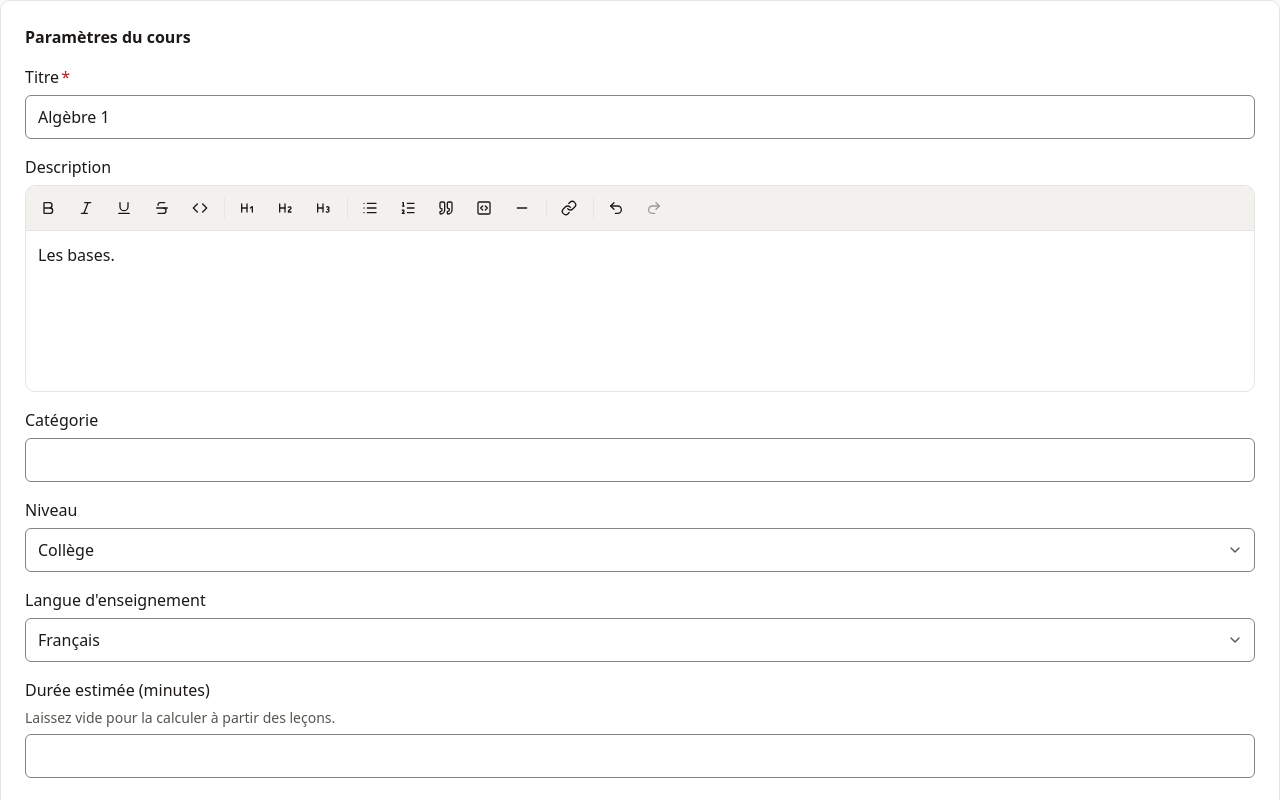
CourseSettingsForm › « Recharger » reloads the course and drops the local edits
This screenshot has width=1280, height=800.
Replace the text in the field labelled "Titre" with "Mon titre". click: (640, 117)
box: [25,95,1255,139]
(page scrolled)
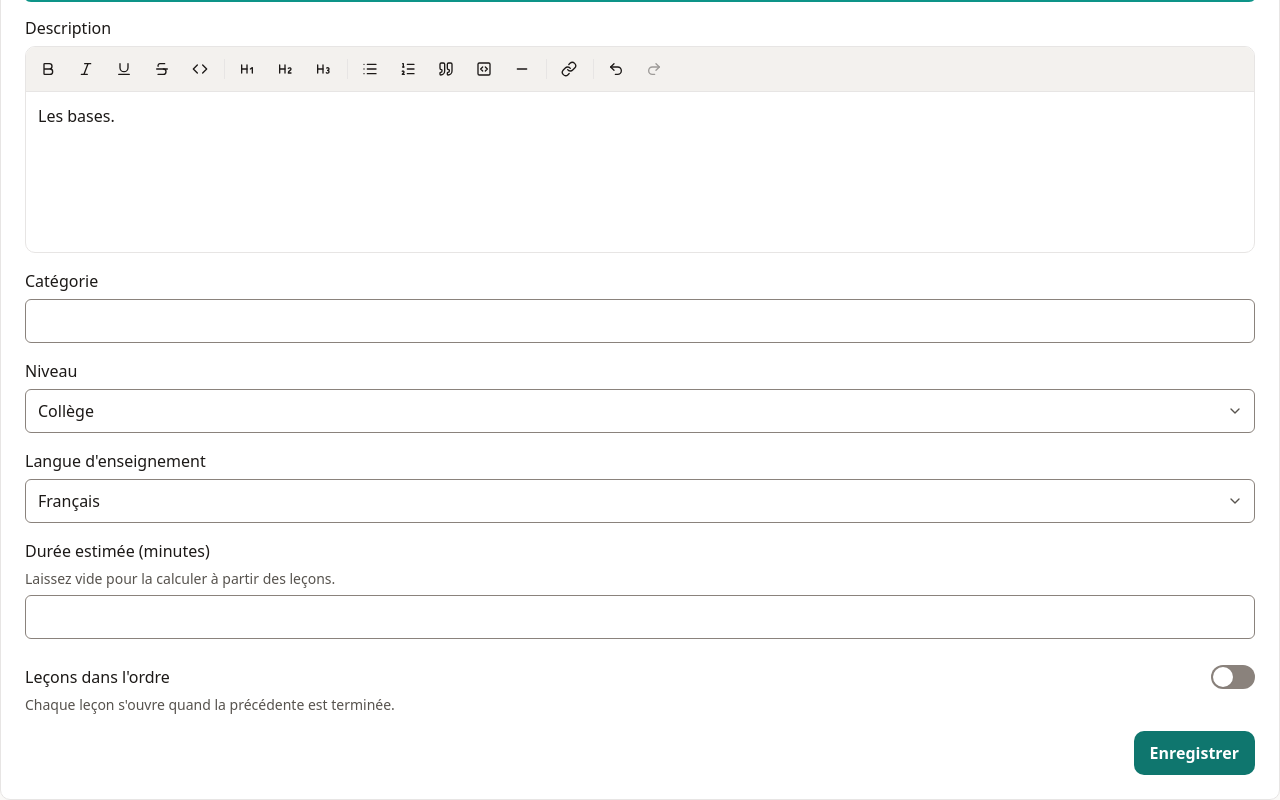
Click the button "Enregistrer". click: click(1194, 753)
box: [1134,731,1255,775]
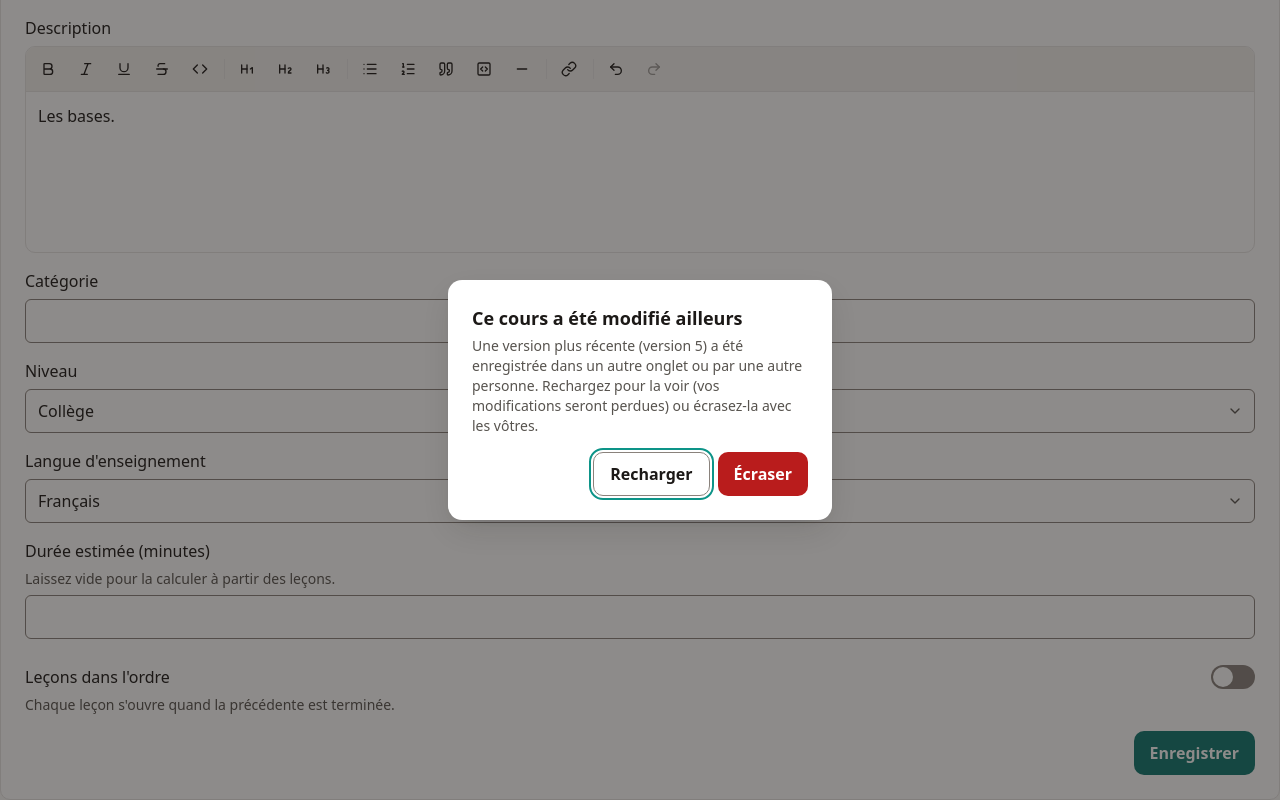
Click the button "Recharger". click: click(651, 474)
box: [593,452,710,496]
(page scrolled)
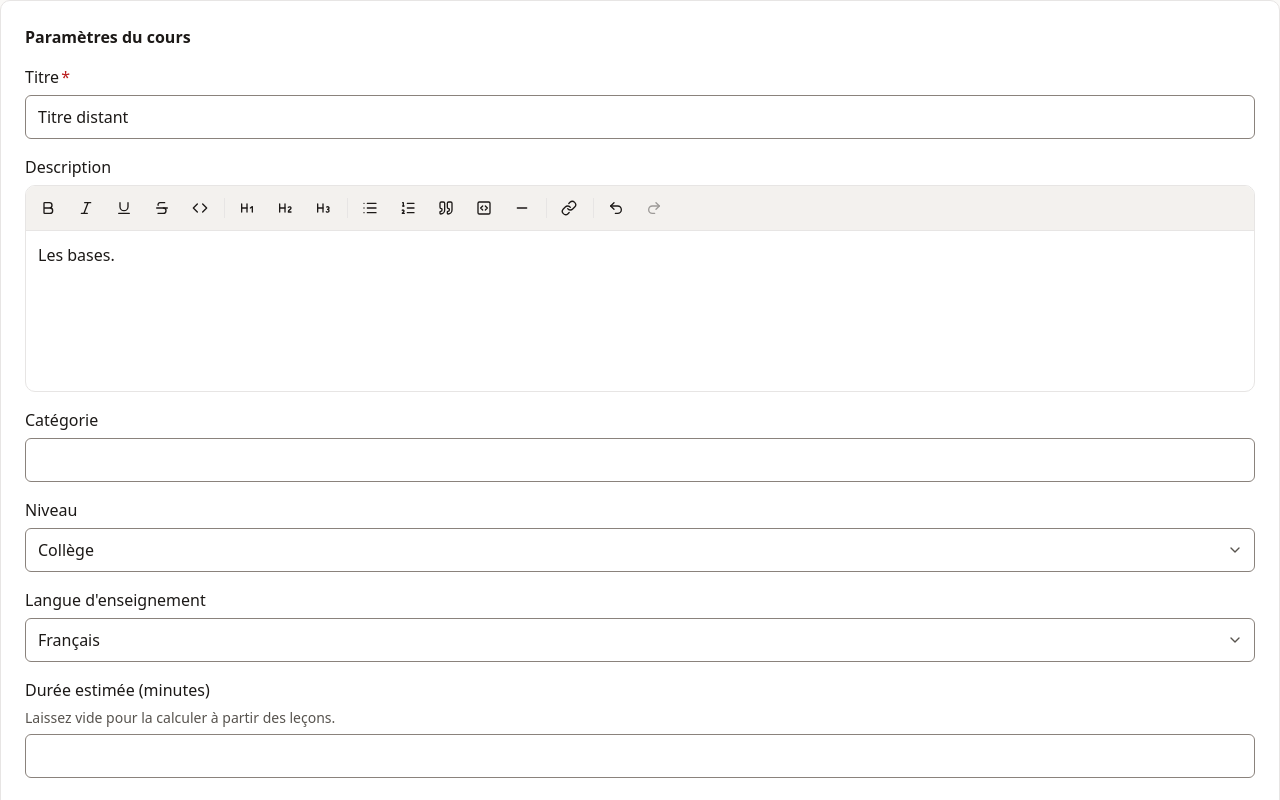
Check: the field labelled "Titre" holds "Titre distant", box [25,95,1255,139]
